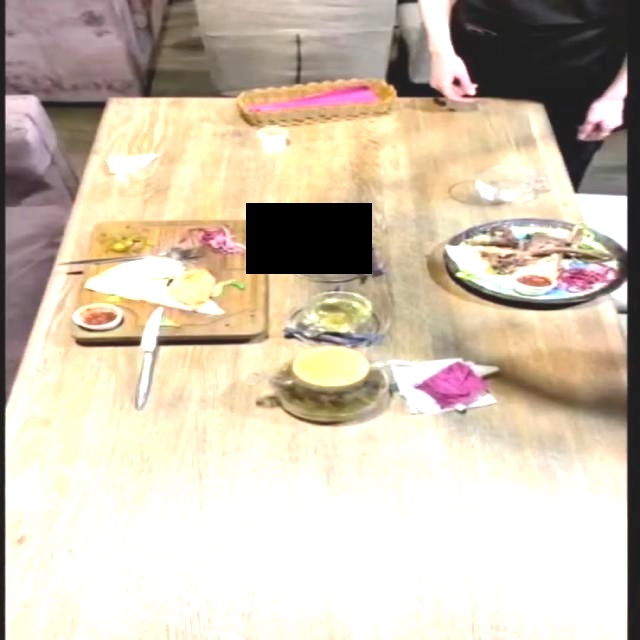meat: (71, 218, 271, 342), (440, 215, 640, 327)
tea: (256, 334, 429, 434)
